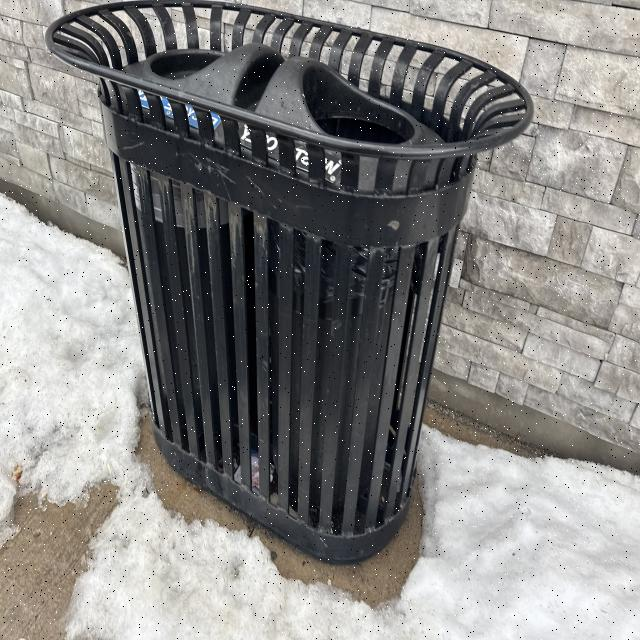Dustbin: (44, 0, 532, 567)
